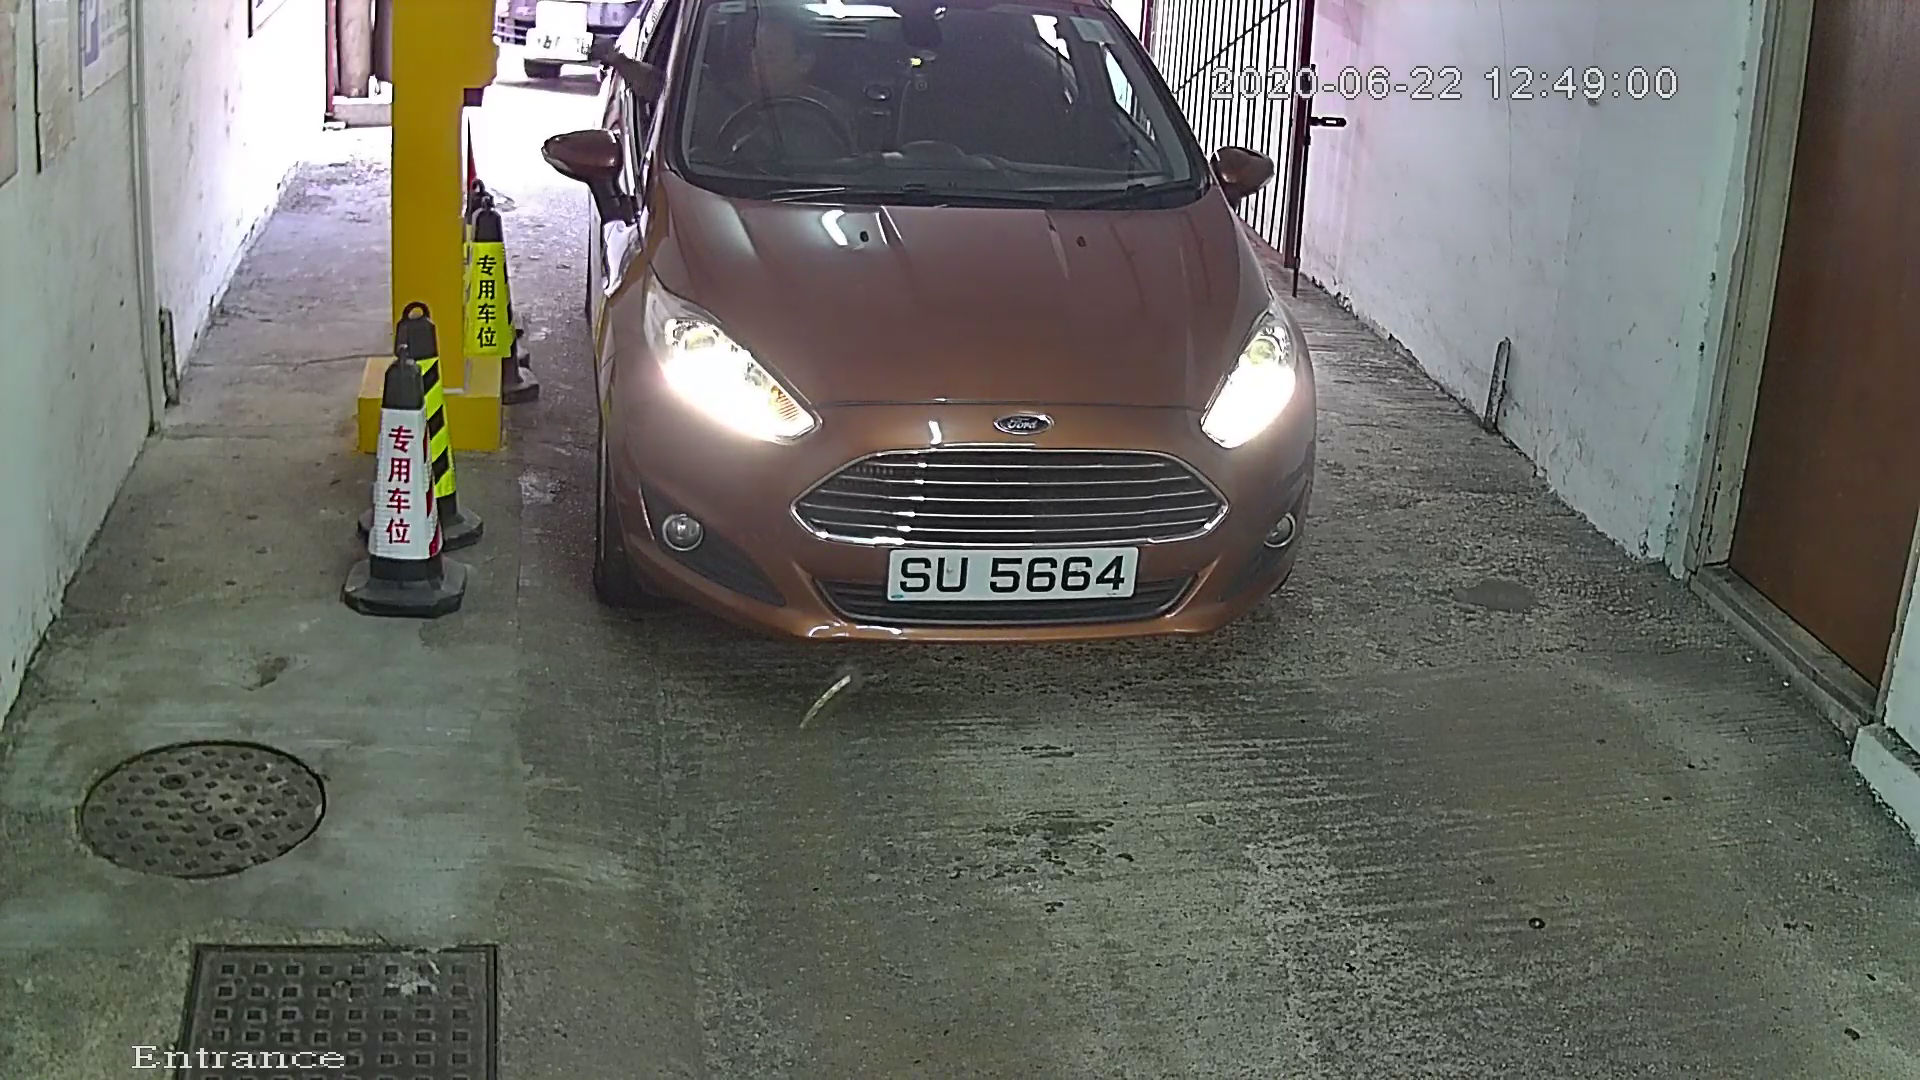privatecar: (533, 3, 1373, 731)
